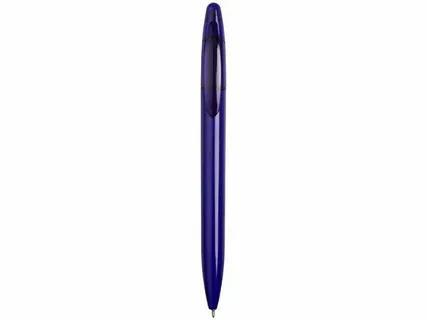pen-pencil: (201, 3, 225, 310)
